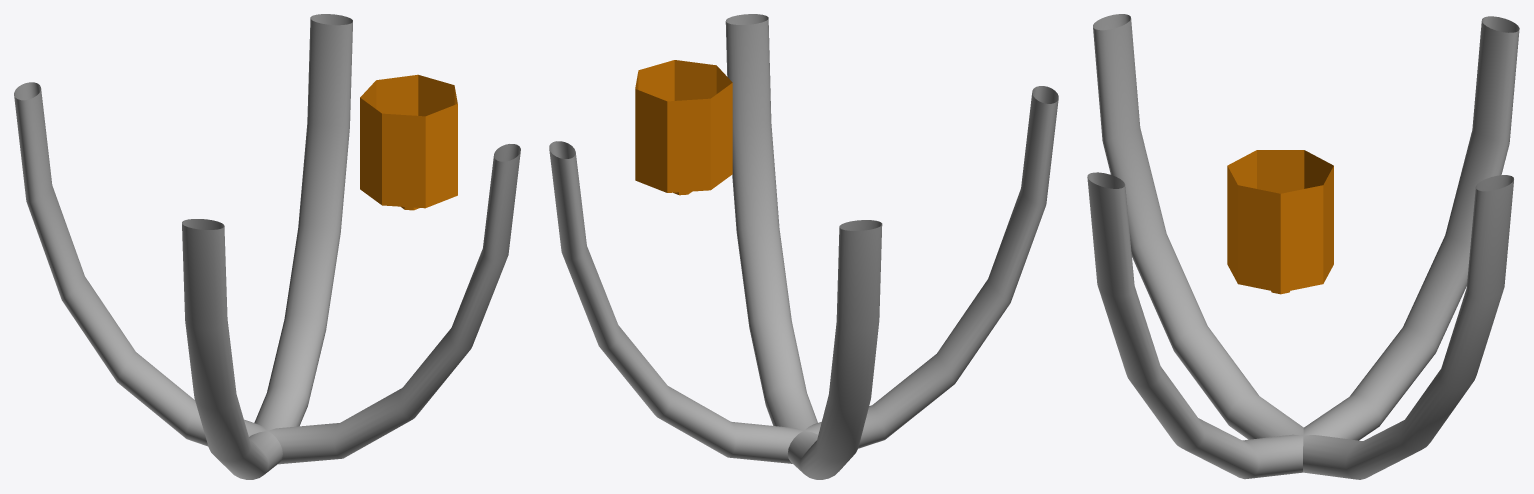
File: ascenceur.fbx
3 renders of one model, left to right at view 1: azimuth 30°, elevation 25°; view 2: azimuth 150°, elevation 25°; view 3: azimuth 270°, elevation 25°, orthographic. The views are drawn at different scales.
Parts seen in each view (by area): view 1: ascenceur; view 2: ascenceur; view 3: ascenceur.
Boxes of the visible parts, left/top/right/bottom form: ascenceur: left=14, top=14, right=520, bottom=479; ascenceur: left=549, top=14, right=1058, bottom=479; ascenceur: left=1087, top=14, right=1519, bottom=479.
Bounding box in the file's own units: 0.9032 × 0.8577 × 0.9093.
